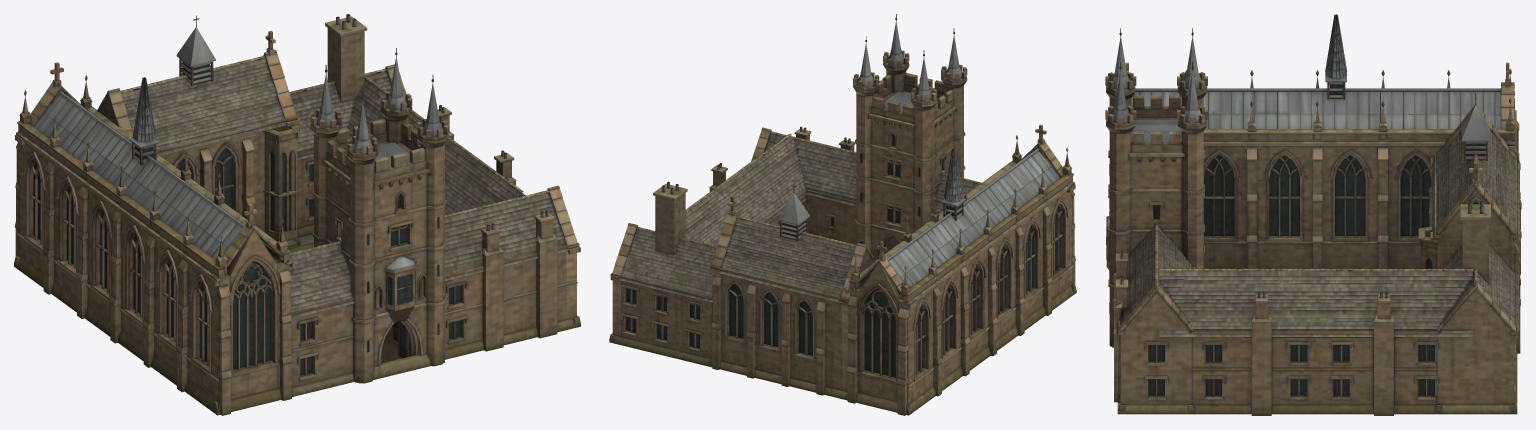
File: university.glb
The picture shows the model from 3 angles, left to right: view 1: azimuth 30°, elevation 25°; view 2: azimuth 150°, elevation 25°; view 3: azimuth 270°, elevation 25°; orthographic projection. The views are drawn at different scales.
Visible parts, largest first — view 1: university_LOD0; view 2: university_LOD0; view 3: university_LOD0.
Part boxes in pixels (x1=…): university_LOD0: x1=14, y1=14, x2=580, y2=415; university_LOD0: x1=609, y1=14, x2=1076, y2=415; university_LOD0: x1=1105, y1=14, x2=1521, y2=415.
Size of what is drawn, in the model's own units: 31.7 by 23.4 by 31.31.
Materials: 1 (1 with a texture image).
